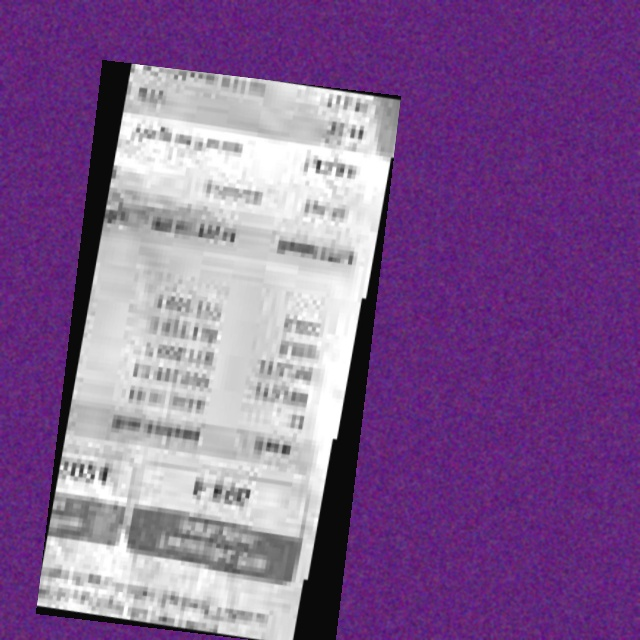electricity-bill: (36, 60, 400, 640)
